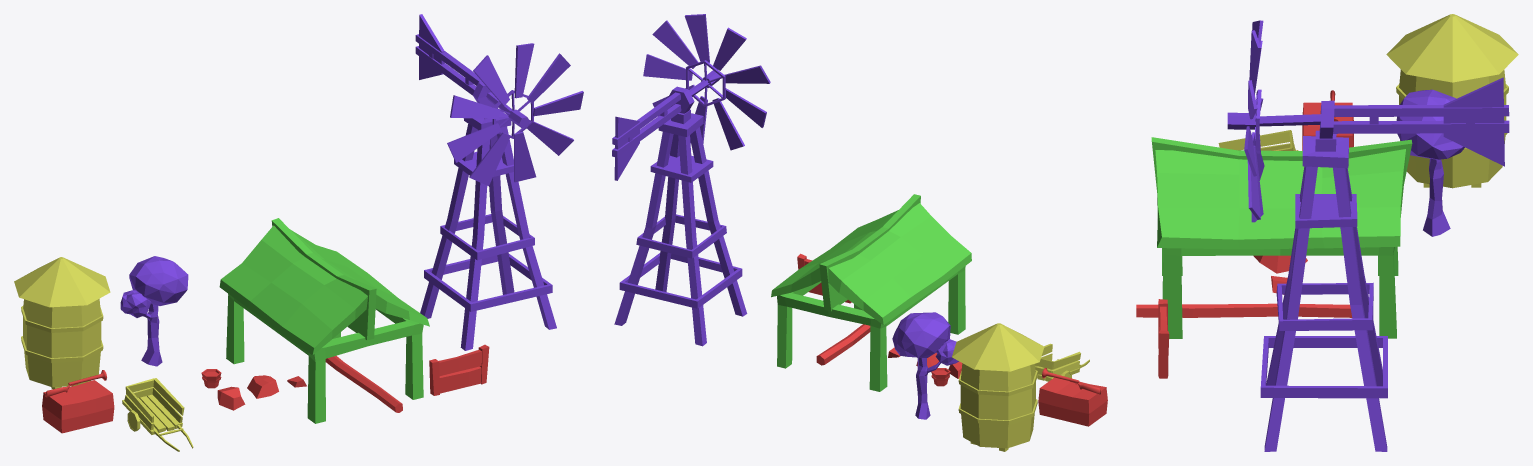
File: Props Terreno com UV.fbx
The picture shows the model from 3 angles, left to right: view 1: azimuth 30°, elevation 25°; view 2: azimuth 150°, elevation 25°; view 3: azimuth 270°, elevation 25°; orthographic projection. The views are drawn at different scales.
Visible parts, largest first — view 1: Cube.012, Cube.003, Cylinder.002, Icosphere, fENO, Carrinho de mao.001, Cube, Cylinder, Cube.002; view 2: Cube.012, Cube.003, Cylinder.002, Icosphere, fENO, Carrinho de mao.001, Cylinder; view 3: Cube.012, Cube.003, Cylinder.002, Icosphere, Cylinder, Carrinho de mao.001, Cube, fENO, Cube.002.
Part boxes in pixels (<box>): Cube.012: <box>415,14,583,350</box>; Cube.003: <box>219,218,429,423</box>; Cylinder.002: <box>14,257,110,389</box>; Icosphere: <box>120,256,188,366</box>; fENO: <box>42,380,114,433</box>; Carrinho de mao.001: <box>122,378,193,451</box>; Cube: <box>429,344,489,395</box>; Cylinder: <box>325,355,402,412</box>; Cube.002: <box>247,375,278,398</box>; Cube.012: <box>612,14,770,346</box>; Cube.003: <box>771,194,971,391</box>; Cylinder.002: <box>952,323,1044,451</box>; Icosphere: <box>892,312,958,419</box>; fENO: <box>1038,377,1107,426</box>; Carrinho de mao.001: <box>1035,343,1089,381</box>; Cylinder: <box>816,324,870,365</box>; Cube.012: <box>1227,20,1509,451</box>; Cube.003: <box>1151,137,1412,338</box>; Cylinder.002: <box>1386,14,1518,188</box>; Icosphere: <box>1396,89,1464,236</box>; Cylinder: <box>1136,303,1352,317</box>; Carrinho de mao.001: <box>1218,130,1298,150</box>; Cube: <box>1158,299,1169,378</box>; fENO: <box>1302,102,1353,150</box>; Cube.002: <box>1253,255,1307,273</box>.
Size of the model in its own units: 4763 by 2702 by 2359.
